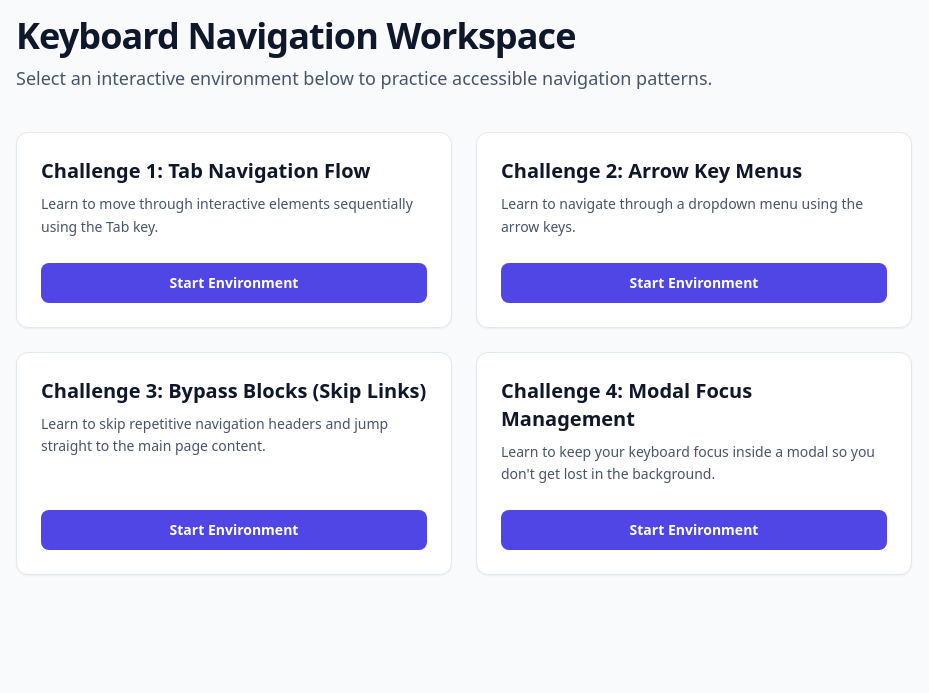
KeyboardTrainer › shows error feedback on incorrect key press without crashing
The width and height of the screenshot is (929, 693).
Step 1. Click the button "Start Environment" below "Challenge 1: Tab Navigation Flow" → click(234, 282), box [41,262,427,302]
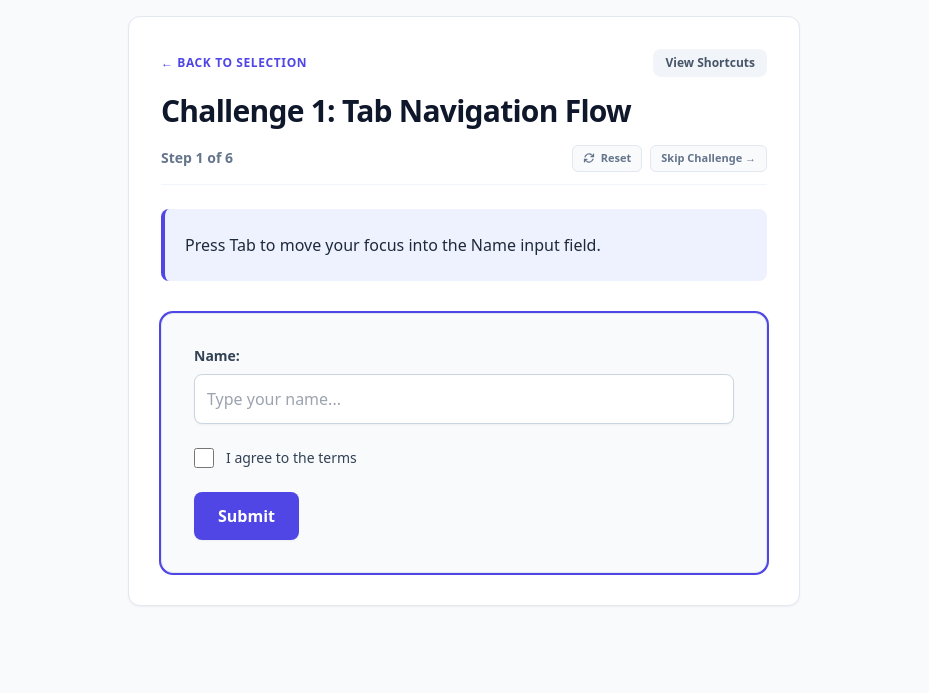
Result: the text "Step 1 of 6" is shown at [161,148,233,168]
Step 2. Press Tab
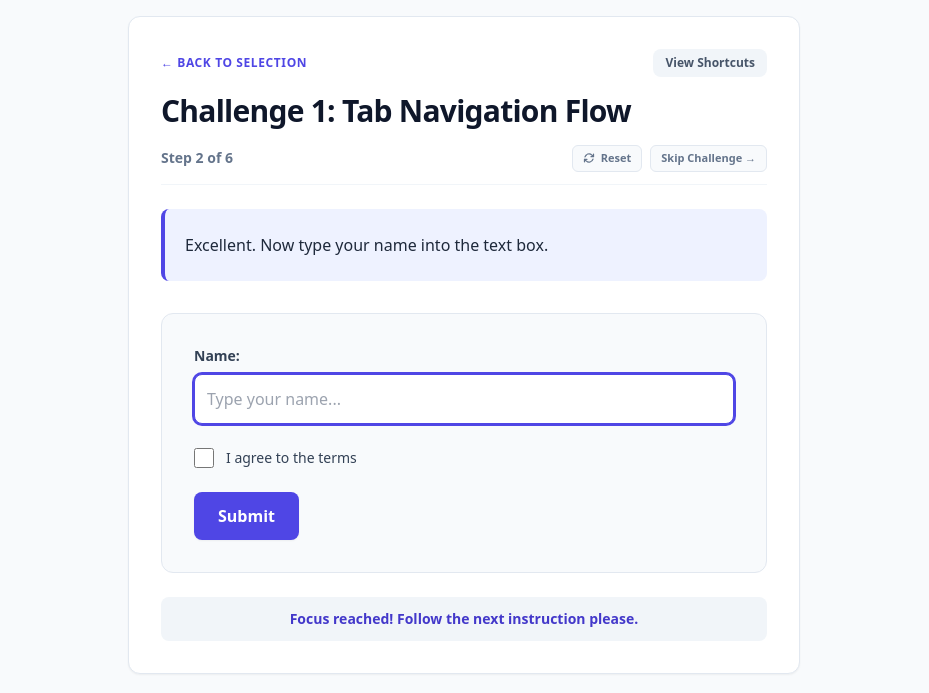
Step 3. Type "Matanat" into the field → (464, 398), box [194,374,734,424]
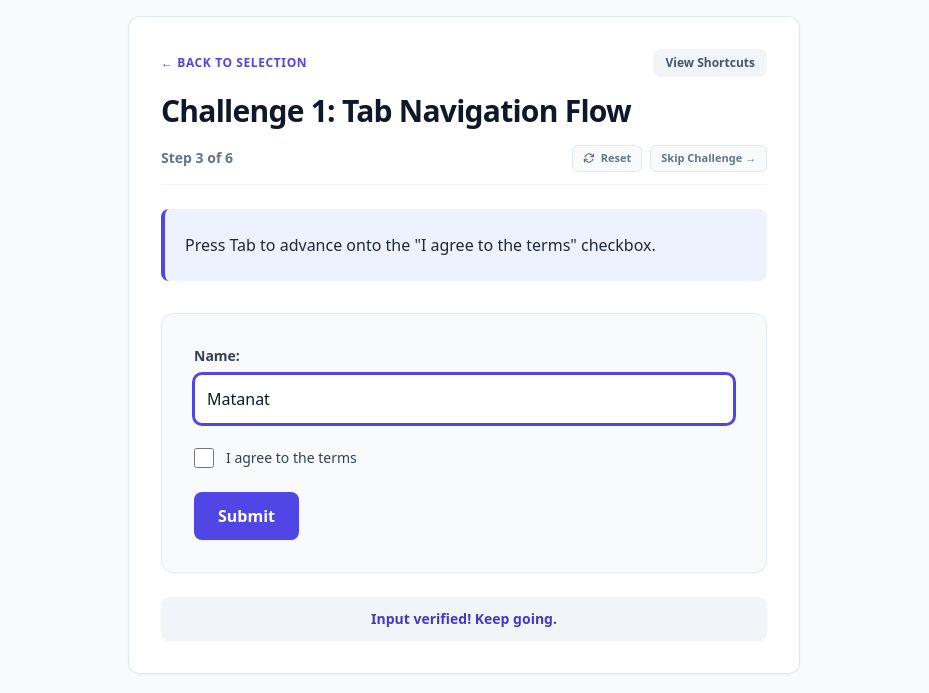
Step 4. Press Tab
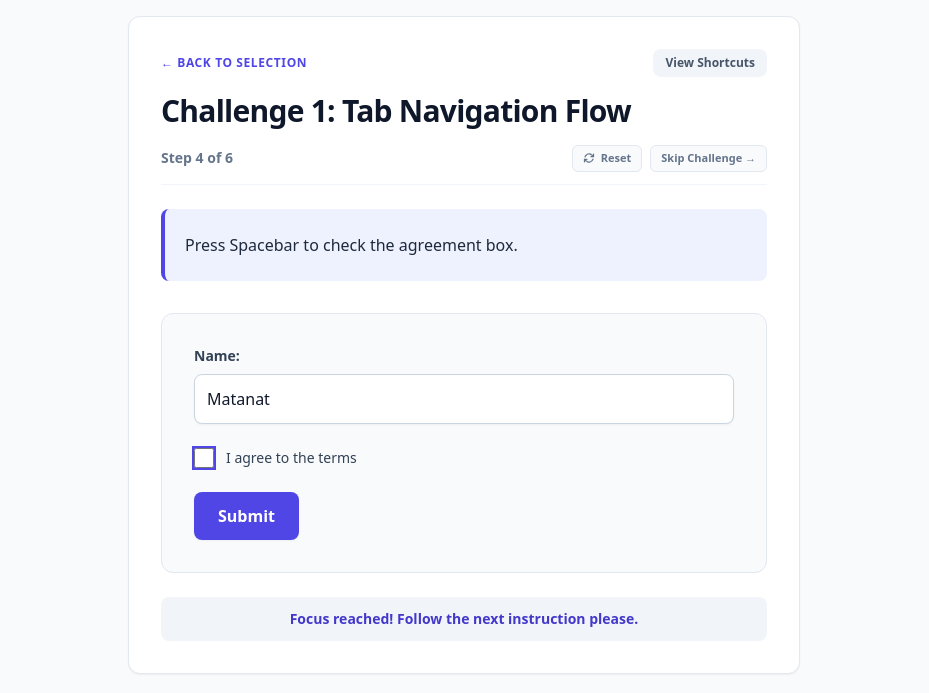
Result: the text "Step 4 of 6" is shown at [161,148,233,168]
Step 5. Press Enter
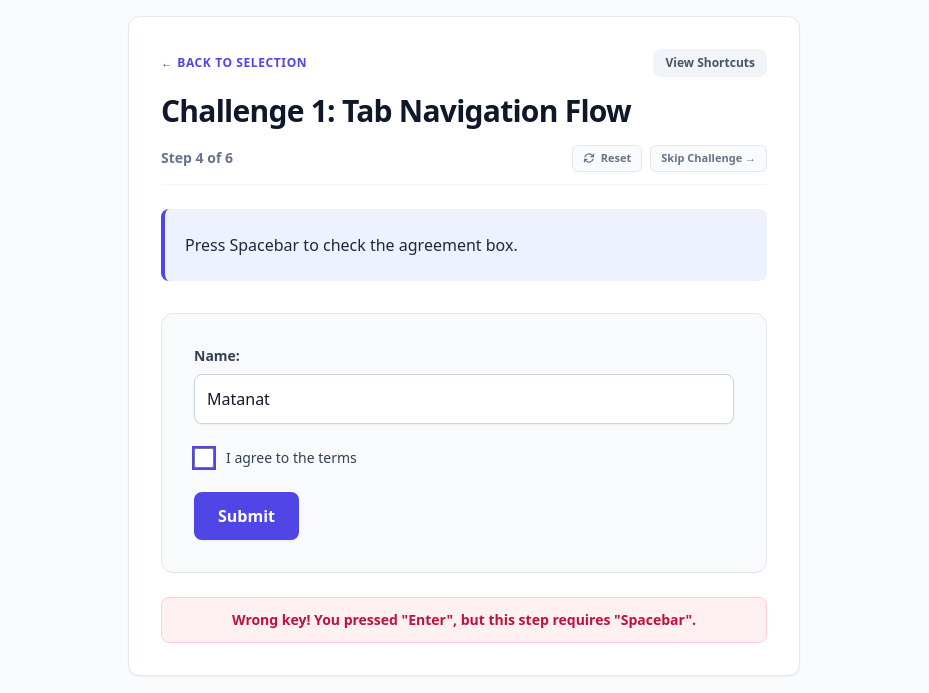
Result: the text "Step 4 of 6" is shown at [161,148,233,168]
Result: the checkbox is not checked at [194,448,214,468]
Result: the text "Wrong key! You pressed \"Enter\"" is shown at [232,610,696,628]
Step 6. Type keys " "
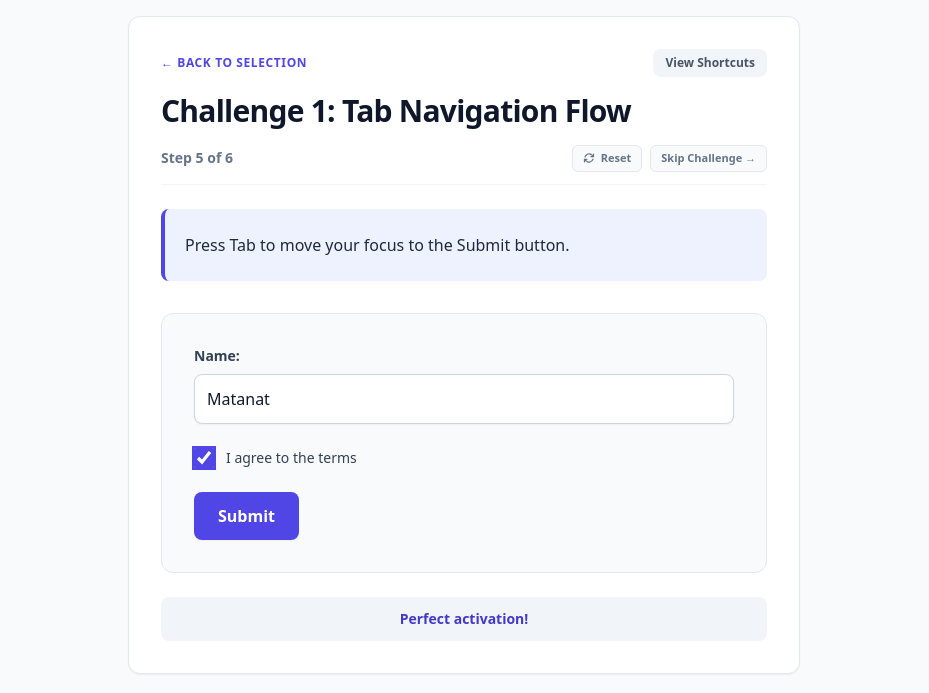
Result: the text "Step 5 of 6" is shown at [161,148,233,168]
